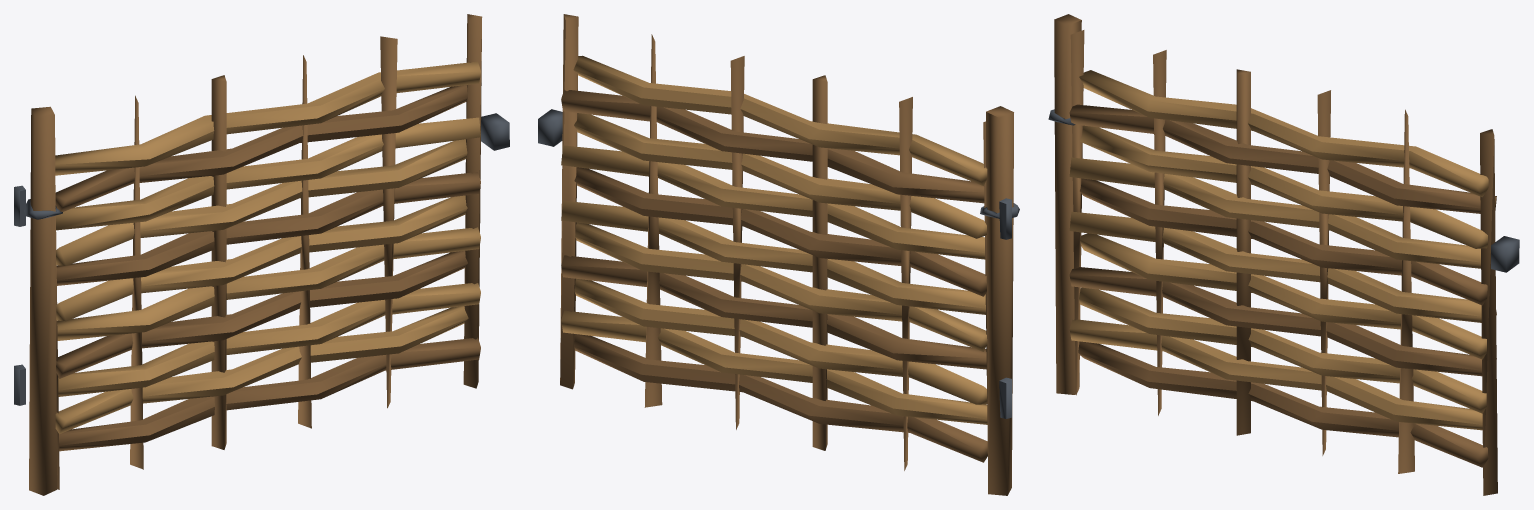
Rendered from fence-willow-gate.glb.
3 views of the same model, side by side, from view 1: azimuth 30°, elevation 25°; view 2: azimuth 150°, elevation 25°; view 3: azimuth 330°, elevation 25° (orthographic). The views are drawn at different scales.
Visible parts, largest first — view 1: gate, frame; view 2: gate, frame; view 3: gate, frame.
Part boxes in pixels (x1=…): gate: x1=24, y1=14, x2=482, y2=495; frame: x1=14, y1=113, x2=509, y2=405; gate: x1=560, y1=14, x2=1019, y2=495; frame: x1=538, y1=109, x2=1011, y2=418; gate: x1=1048, y1=14, x2=1497, y2=495; frame: x1=1491, y1=236, x2=1519, y2=272.
Size of the model in its own units: 0.9782 by 0.74 by 0.0892.
